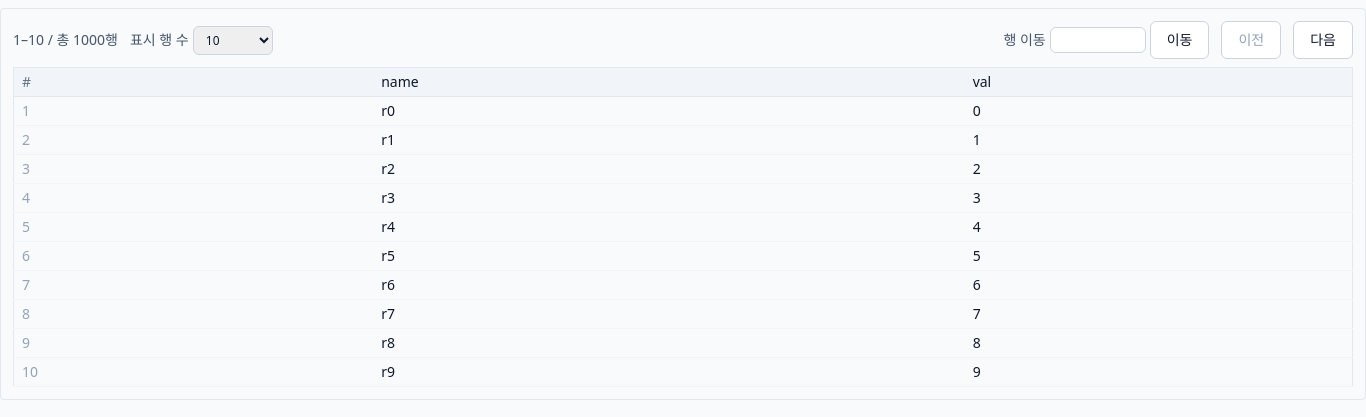
Scenario: DatasetRowsPreview › 이동 후 행 이동 입력이 비워진다
Type "743" into the number field labelled "행 이동" at (1098, 40), box [1050, 27, 1146, 53]
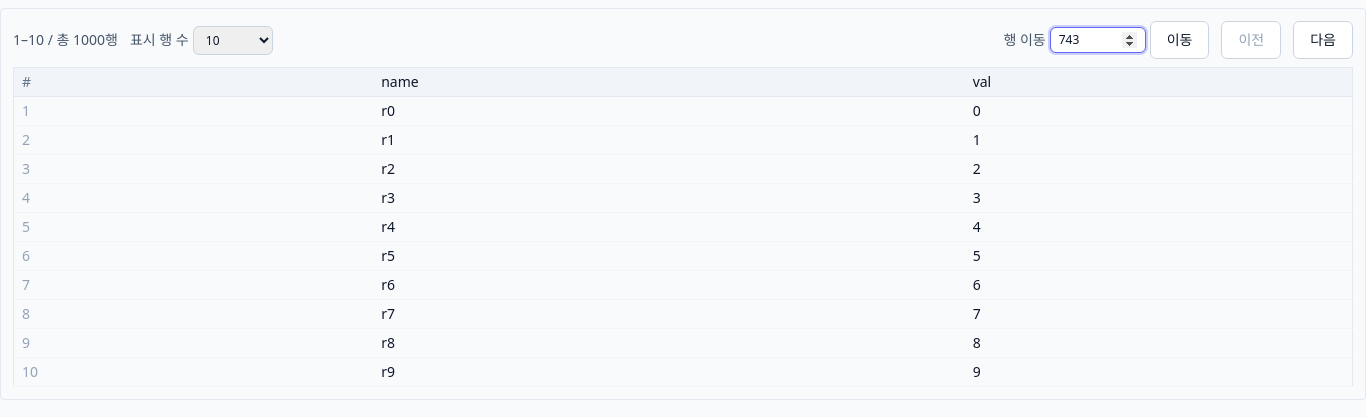
Click the button "이동" at (1180, 40), box [1150, 21, 1210, 59]
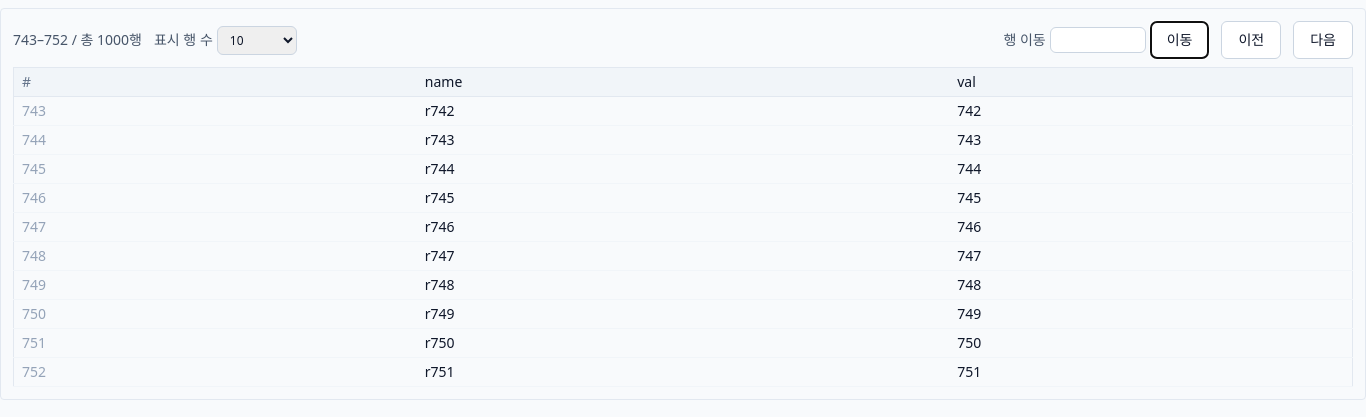
Now the number field labelled "행 이동" is not empty, box [1050, 27, 1146, 53]
